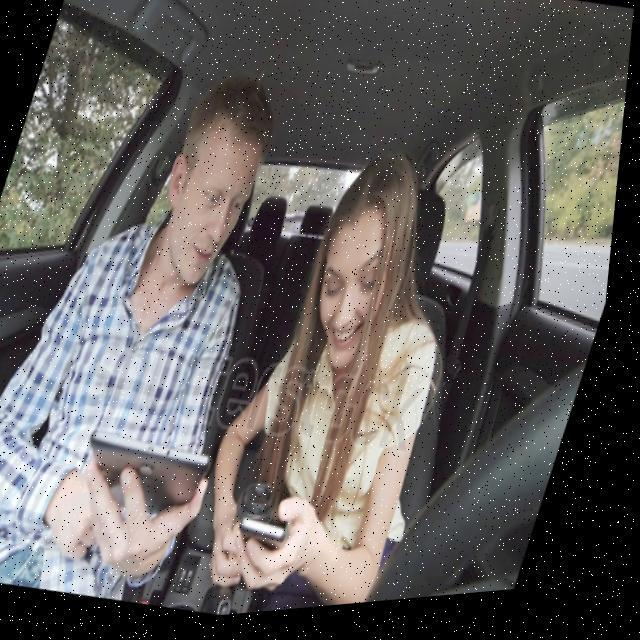PhoneCall: (236, 509, 310, 564)
